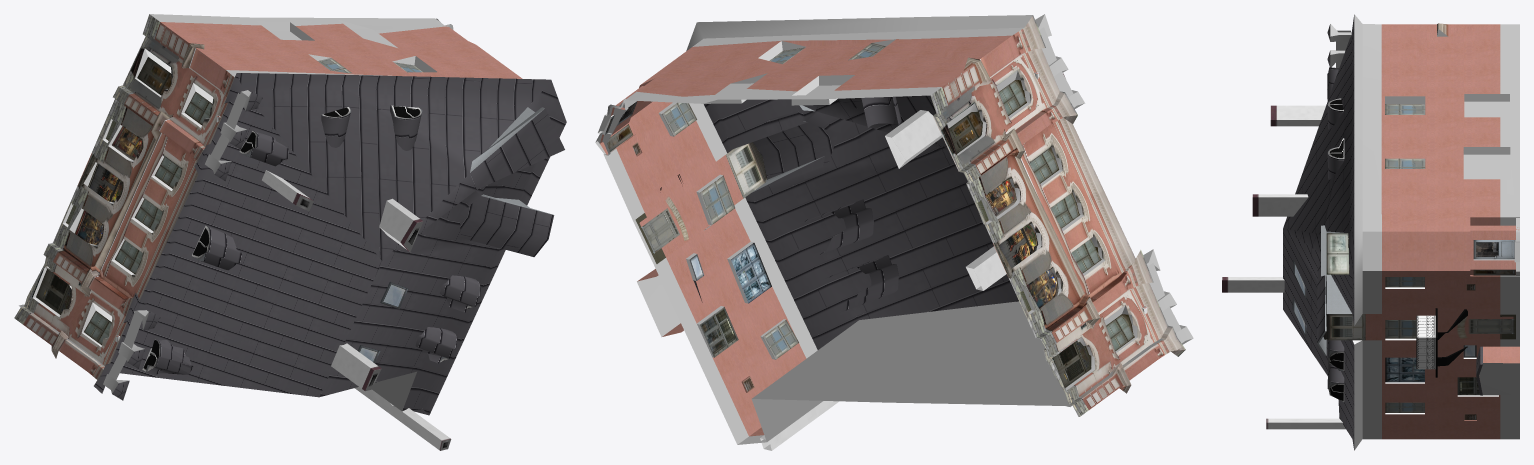
File: Vene_12a-origo.obj
3 renders of one model, left to right at view 1: azimuth 30°, elevation 25°; view 2: azimuth 150°, elevation 25°; view 3: azimuth 270°, elevation 25°, orthographic. The views are drawn at different scales.
Parts seen in each view (by area): view 1: Vene_12a; view 2: Vene_12a; view 3: Vene_12a.
Part boxes in pixels (x1,y1,x2,y2): Vene_12a: [14, 14, 566, 450]; Vene_12a: [595, 14, 1193, 450]; Vene_12a: [1222, 14, 1519, 450].
Bounding box in the file's own units: 26.69 × 21 × 16.11.
